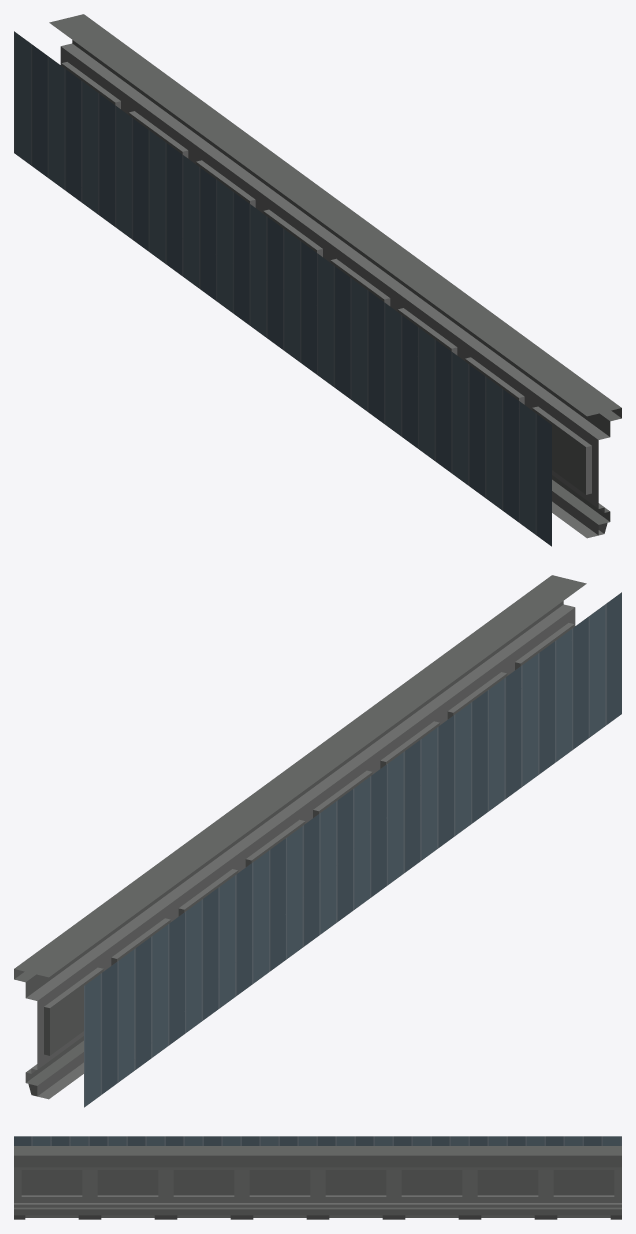
Rendered from SM_cornice_02.glb.
3 views of the same model, one above another, from view 1: azimuth 30°, elevation 25°; view 2: azimuth 150°, elevation 25°; view 3: azimuth 270°, elevation 25° (orthographic). The views are drawn at different scales.
Visible parts, largest first — view 1: SM_cornice_02; view 2: SM_cornice_02; view 3: SM_cornice_02.
Boxes of the visible parts, x1,y1,x2,y2 form: SM_cornice_02: [14, 14, 621, 546]; SM_cornice_02: [14, 575, 621, 1107]; SM_cornice_02: [14, 1136, 621, 1219].
Size of the model in its own units: 0.6 by 1 by 8.
2 materials, 2 textured.
